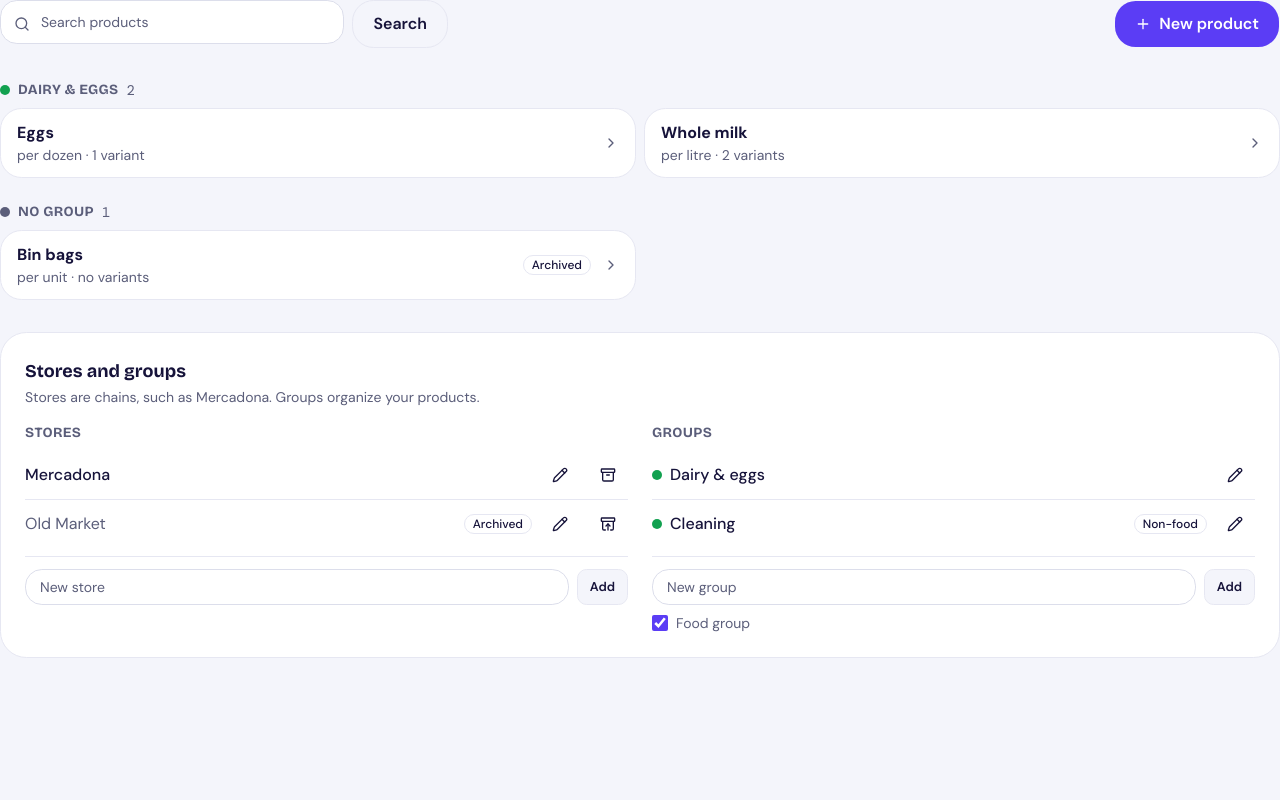
Test: ProductsList › shows field errors in the dialog
Click the button "New product": coordinates (1197, 24) [1114, 0, 1279, 48]
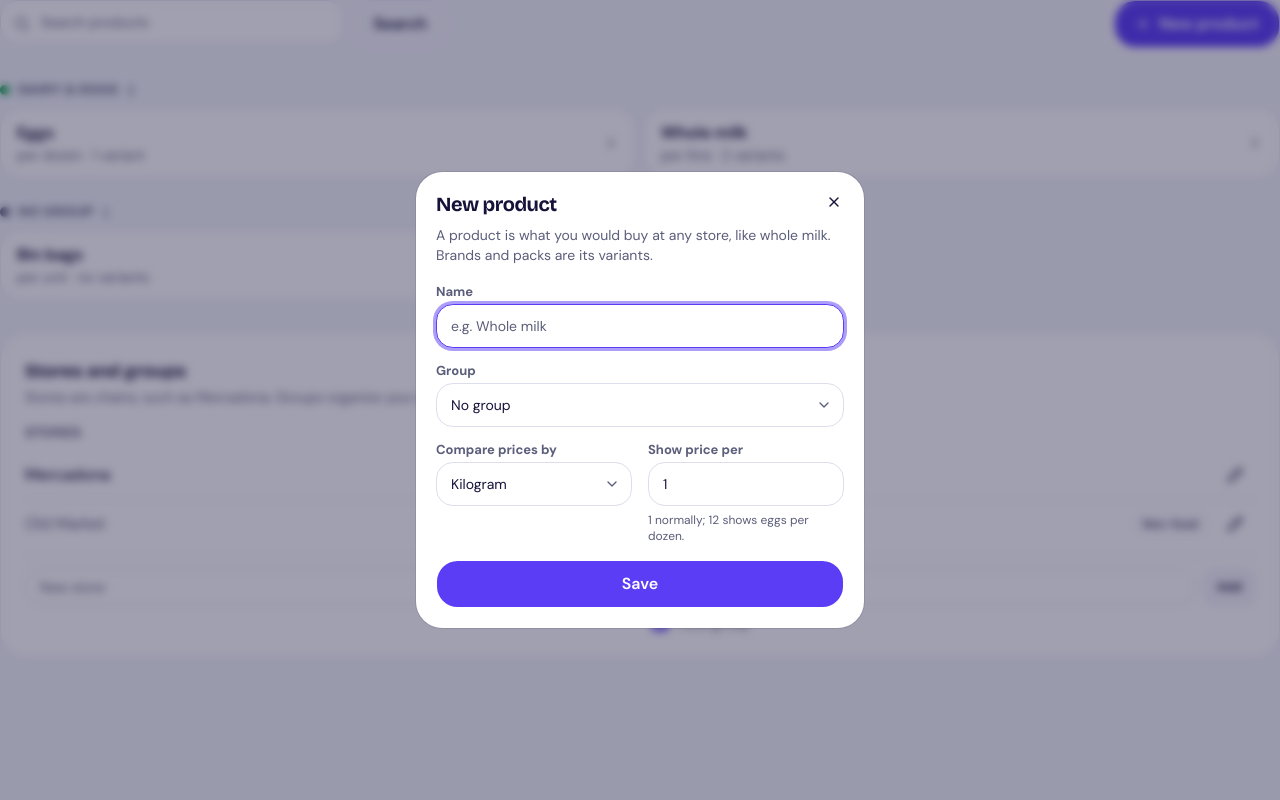
Click the button "Save": coordinates (640, 584) [436, 560, 844, 608]
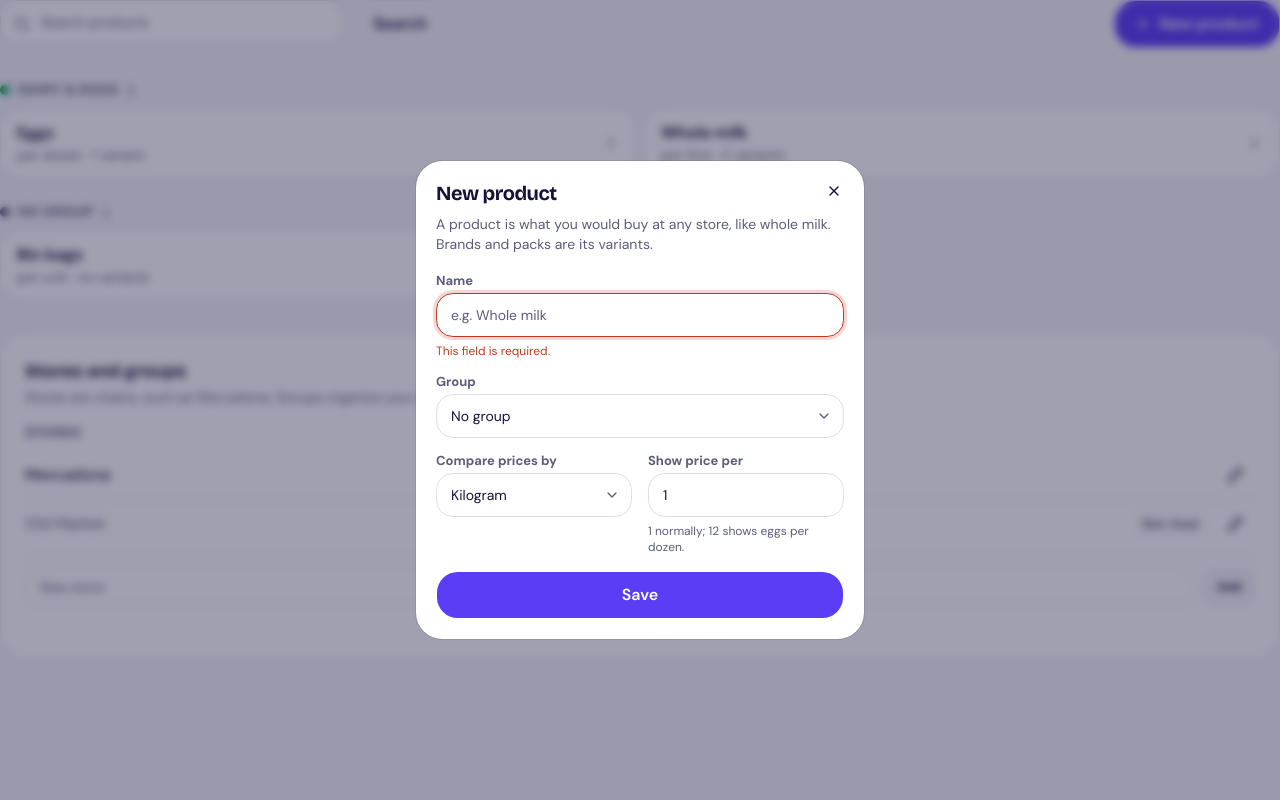
Result: the text "This field is required." is shown at [436, 343, 550, 359]
